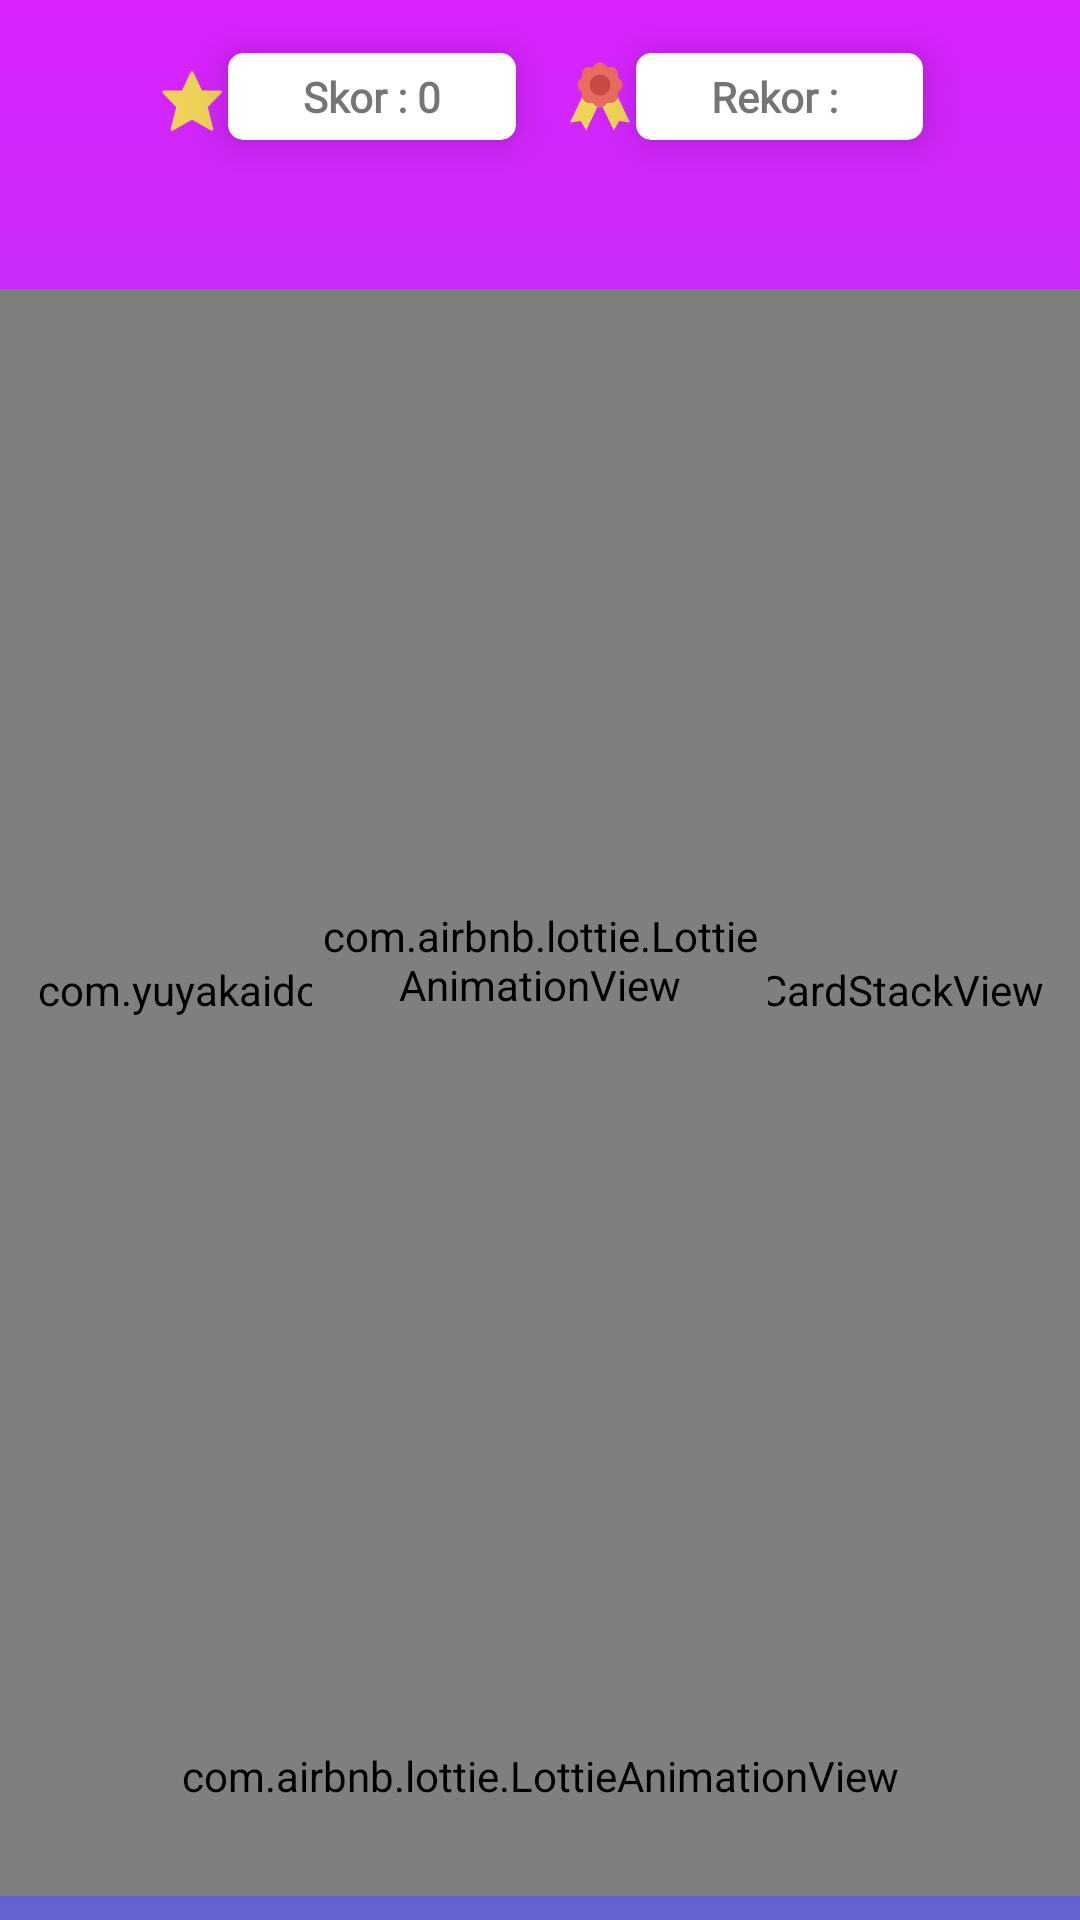

Screen size 1080*1920. Icon name, then its center in pixels as (x=x, y=y):
award: (x=600, y=96)
